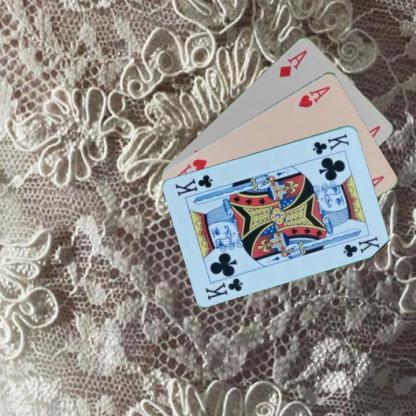Ad: (276, 46, 309, 78)
Ah: (295, 83, 332, 109)
Kc: (203, 275, 245, 301), (310, 131, 351, 156)
